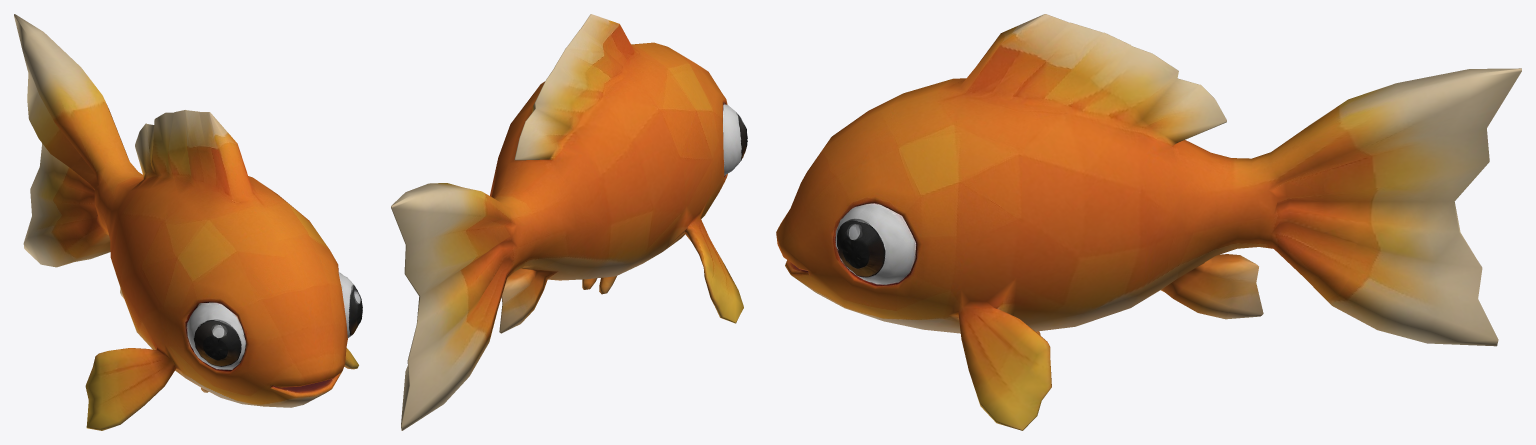
Rendered from goldfish_clean.glb.
3 renders of one model, left to right at view 1: azimuth 30°, elevation 25°; view 2: azimuth 150°, elevation 25°; view 3: azimuth 270°, elevation 25°, orthographic. The views are drawn at different scales.
Parts seen in each view (by area): view 1: tripo_node_5e771090-4356-4915-999d-6aefbaf3aa6b; view 2: tripo_node_5e771090-4356-4915-999d-6aefbaf3aa6b; view 3: tripo_node_5e771090-4356-4915-999d-6aefbaf3aa6b.
Part boxes in pixels (box(x1,y1,x2,y2)): tripo_node_5e771090-4356-4915-999d-6aefbaf3aa6b: box(14, 14, 362, 430); tripo_node_5e771090-4356-4915-999d-6aefbaf3aa6b: box(391, 14, 747, 430); tripo_node_5e771090-4356-4915-999d-6aefbaf3aa6b: box(776, 14, 1521, 430).
Size of the model in its own units: 0.5 by 0.5 by 1.
Materials: 1 (1 with a texture image).
